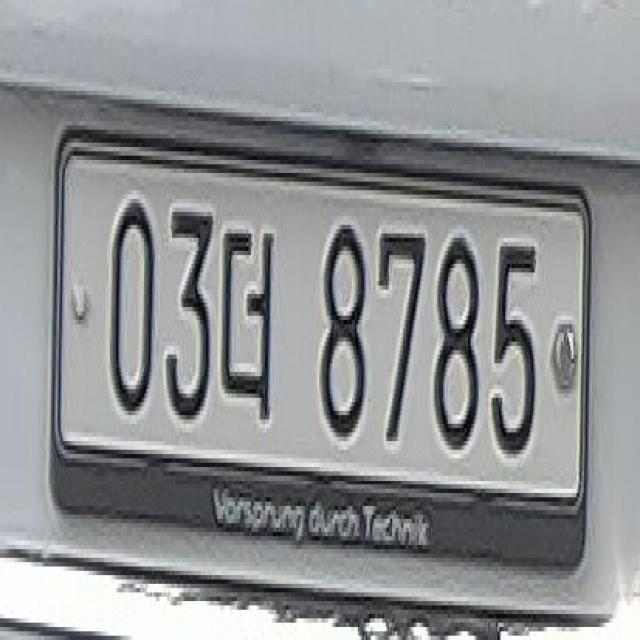0: (106, 180, 156, 423)
3: (161, 194, 218, 452)
5: (487, 228, 547, 477)
7: (379, 216, 423, 464)
8: (316, 207, 368, 467), (434, 212, 482, 470)
deo: (221, 186, 283, 462)
license_plate: (42, 112, 585, 562)
